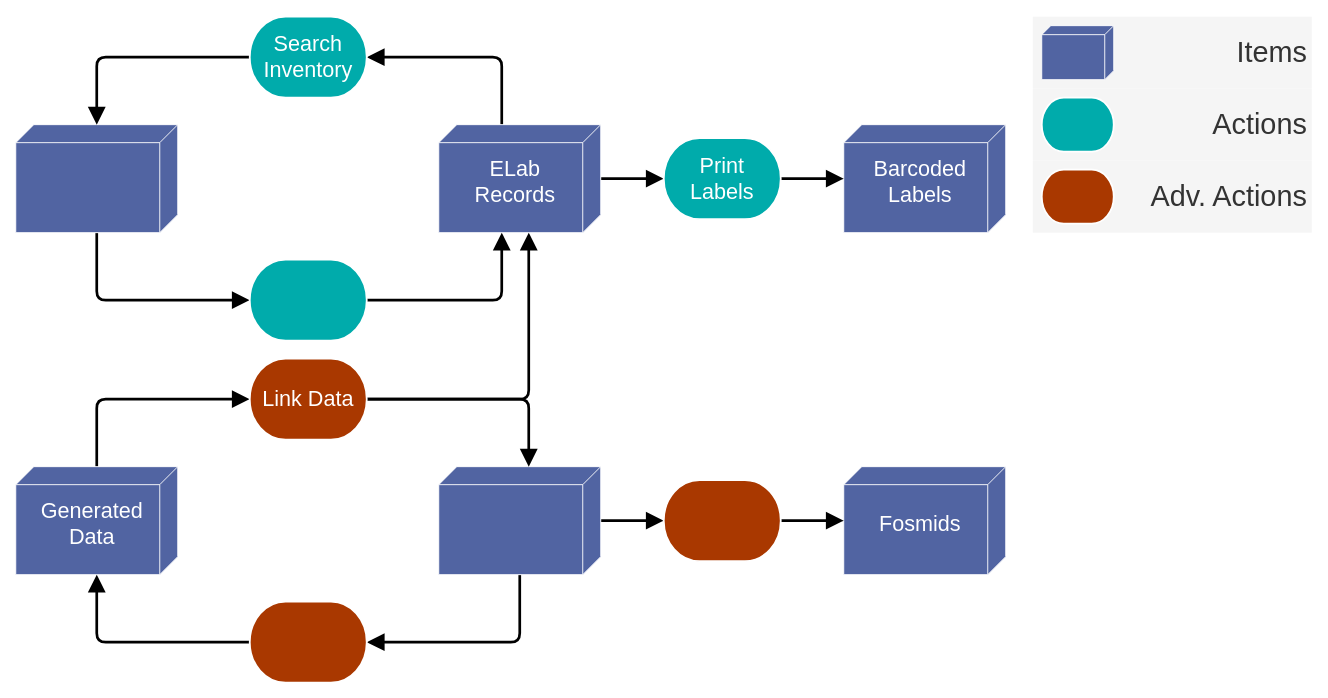
The diagram is 1328 pixels wide and 698 high, and some of its shapes have lost their labels. The shapes that lost their labels are listed below. From the top down, each one's centre as x and y in pixels, then its label:
At pixel 96 178: "Physical Samples".
At pixel 307 299: "Add Samples".
At pixel 519 520: "Limes".
At pixel 721 520: "Search Fosmids".
At pixel 307 641: "Search Data".
